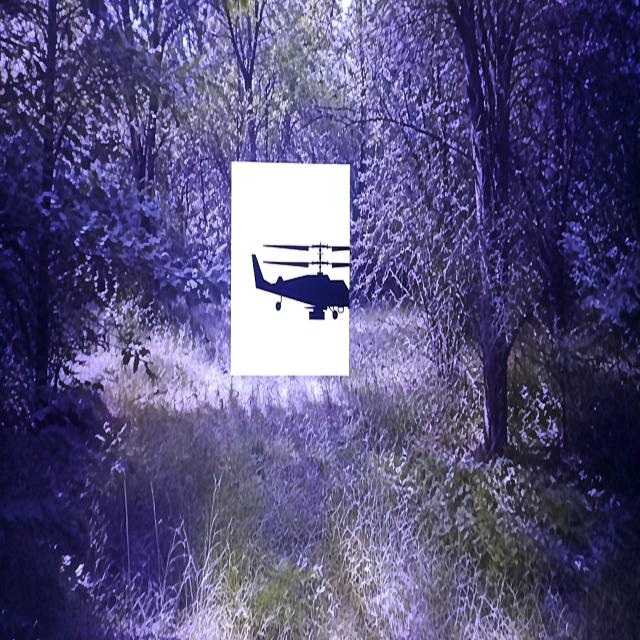Ka-52 Enemy: (252, 244, 349, 319)
